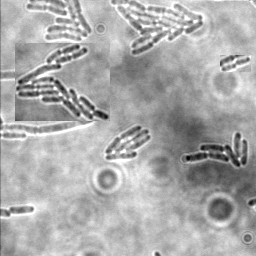Dividing: (1, 114, 95, 133), (8, 204, 35, 215), (164, 153, 176, 175)
Microcolony: (109, 1, 205, 56), (140, 79, 212, 121), (25, 1, 94, 44), (184, 130, 248, 167), (103, 124, 150, 160), (16, 63, 48, 74)
Rod: (213, 120, 236, 157)
